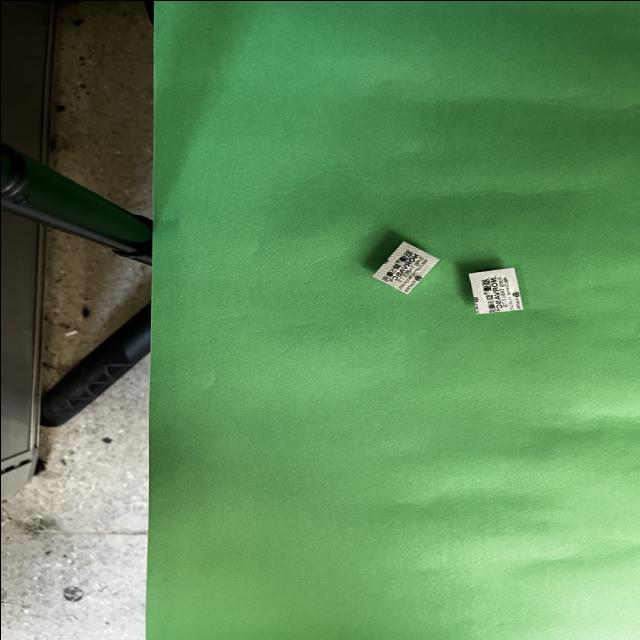Other Objects: (373, 240, 438, 292), (468, 266, 521, 313), (381, 260, 387, 267)
